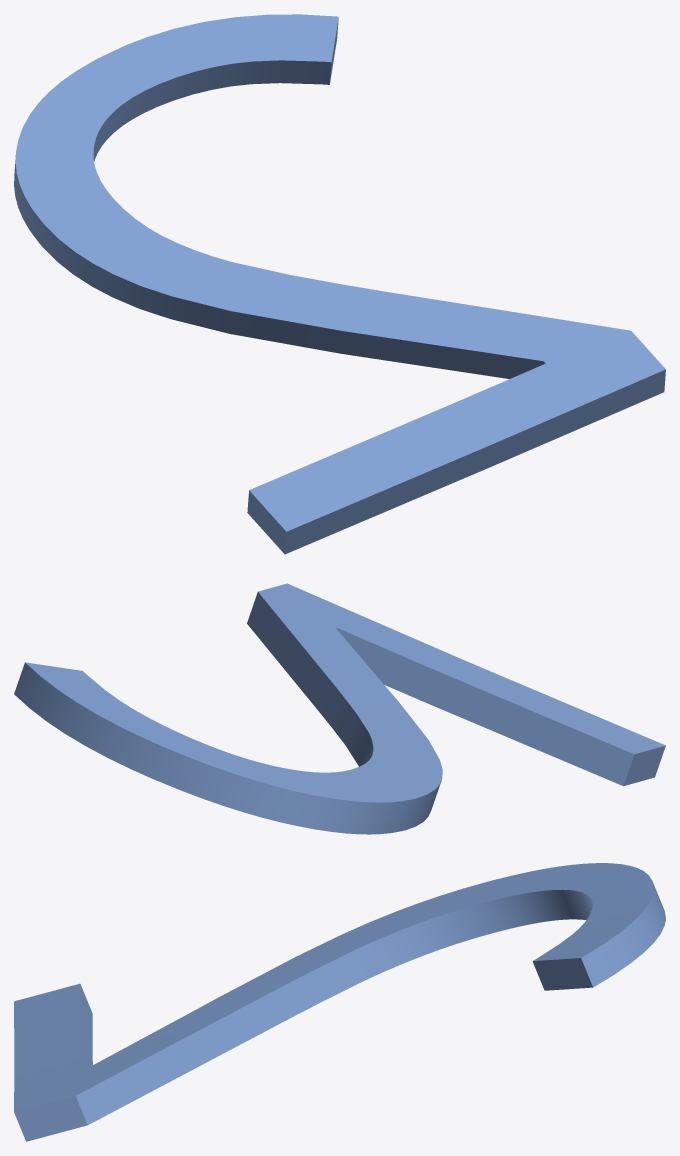
The model's file is New_Number_2.gltf.
3 views of the same model, one above another, from view 1: azimuth 30°, elevation 25°; view 2: azimuth 150°, elevation 25°; view 3: azimuth 270°, elevation 25° (orthographic). The views are drawn at different scales.
Parts seen in each view (by area): view 1: Part 605; view 2: Part 605; view 3: Part 605.
Part boxes in pixels (x1,y1,x2,y2): Part 605: (14,14,665,554); Part 605: (14,583,665,834); Part 605: (14,863,665,1141).
Bounding box in the file's own units: 0.00333 × 0.002 × 0.00505.
